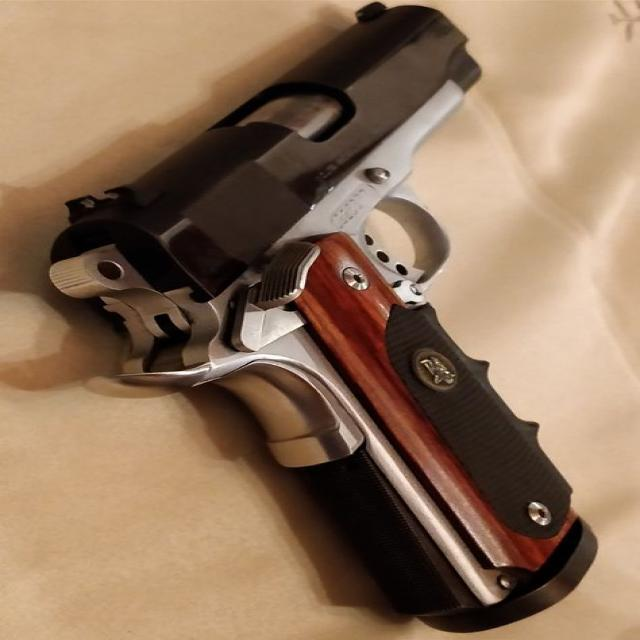revolver: (11, 0, 619, 638)
